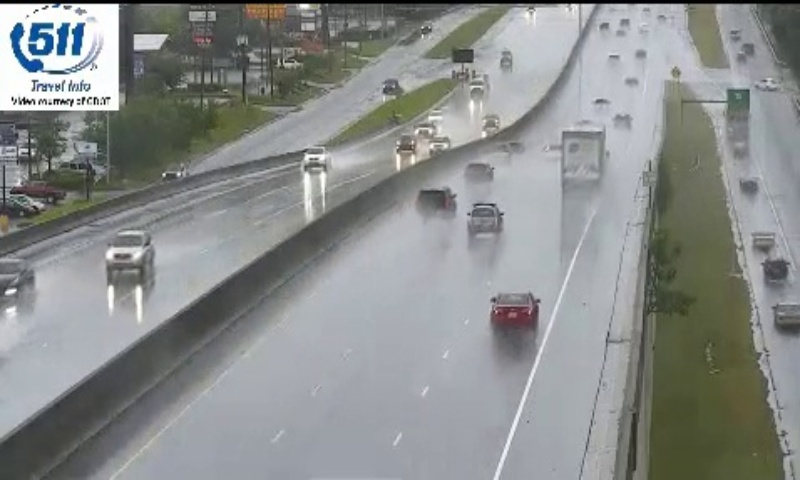car: (492, 293, 537, 333), (416, 188, 455, 219), (466, 203, 502, 236)
small-truck: (560, 121, 605, 190)
